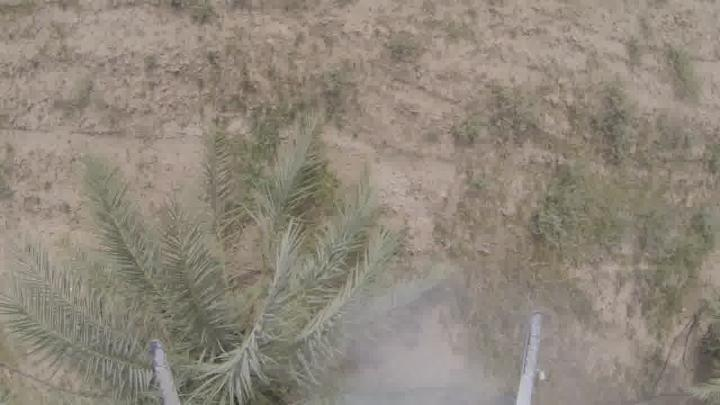Date-Palm-Crown: (80, 209, 391, 405)
